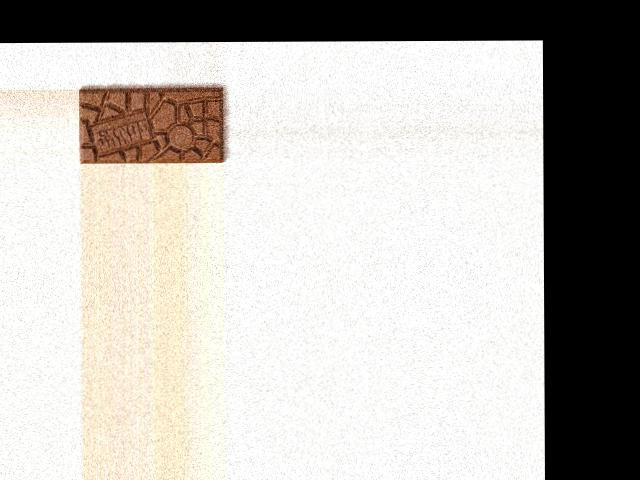chocolate: (78, 83, 225, 163)
